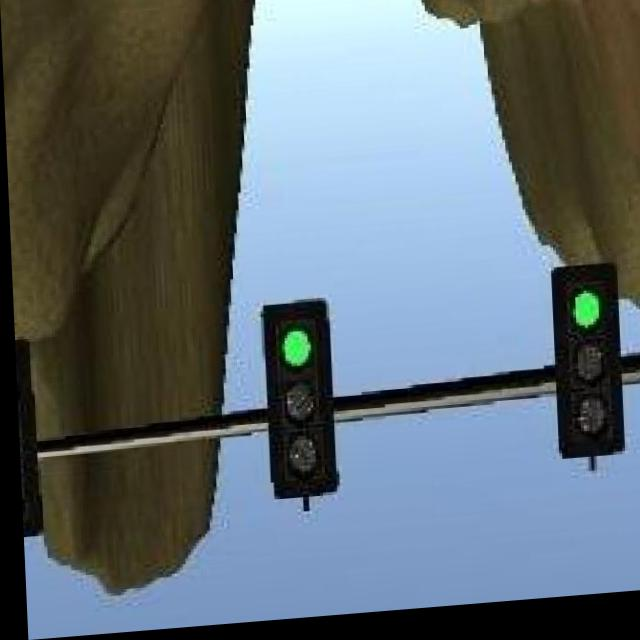green light: (257, 300, 332, 510), (548, 270, 621, 469)
